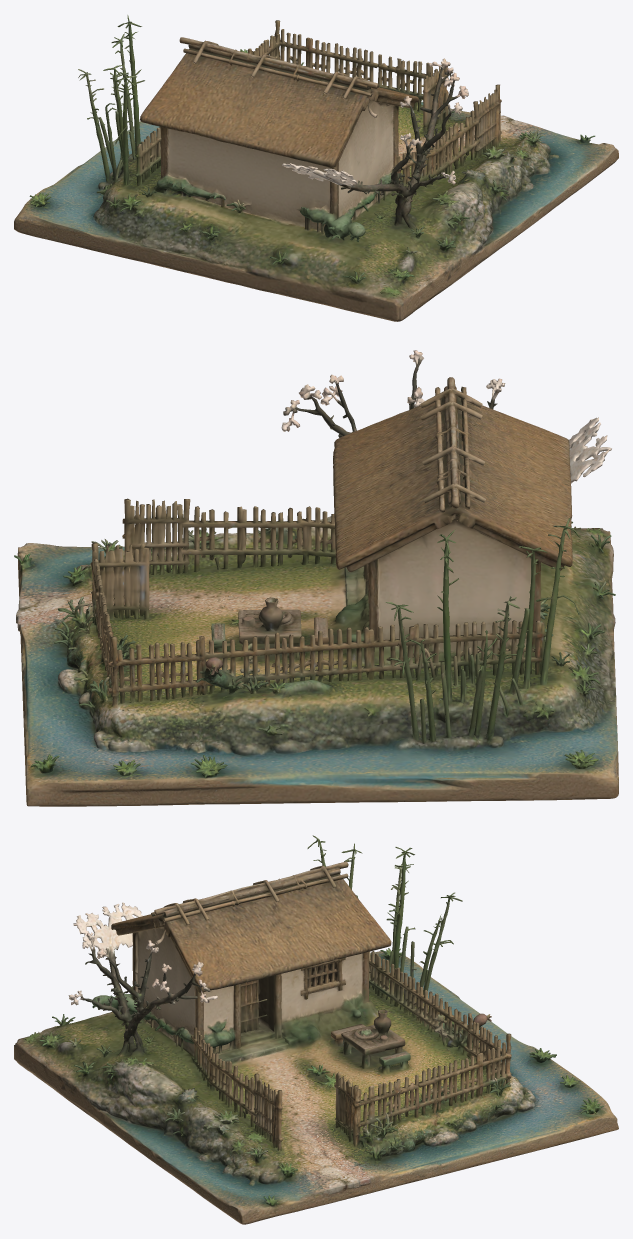
The picture shows the model from 3 angles, top to bottom: view 1: azimuth 30°, elevation 25°; view 2: azimuth 150°, elevation 25°; view 3: azimuth 270°, elevation 25°; orthographic projection. The views are drawn at different scales.
Parts seen in each view (by area): view 1: tripo_node_bca8f5a8-335c-48ec-adab-3b7fe758dcc4; view 2: tripo_node_bca8f5a8-335c-48ec-adab-3b7fe758dcc4; view 3: tripo_node_bca8f5a8-335c-48ec-adab-3b7fe758dcc4.
Part boxes in pixels (bbox=[...]): tripo_node_bca8f5a8-335c-48ec-adab-3b7fe758dcc4: bbox=[14, 15, 618, 321]; tripo_node_bca8f5a8-335c-48ec-adab-3b7fe758dcc4: bbox=[14, 350, 618, 806]; tripo_node_bca8f5a8-335c-48ec-adab-3b7fe758dcc4: bbox=[14, 835, 618, 1224].
Bounding box in the file's own units: 1.3 × 0.4291 × 1.29.
1 material, 1 textured.
